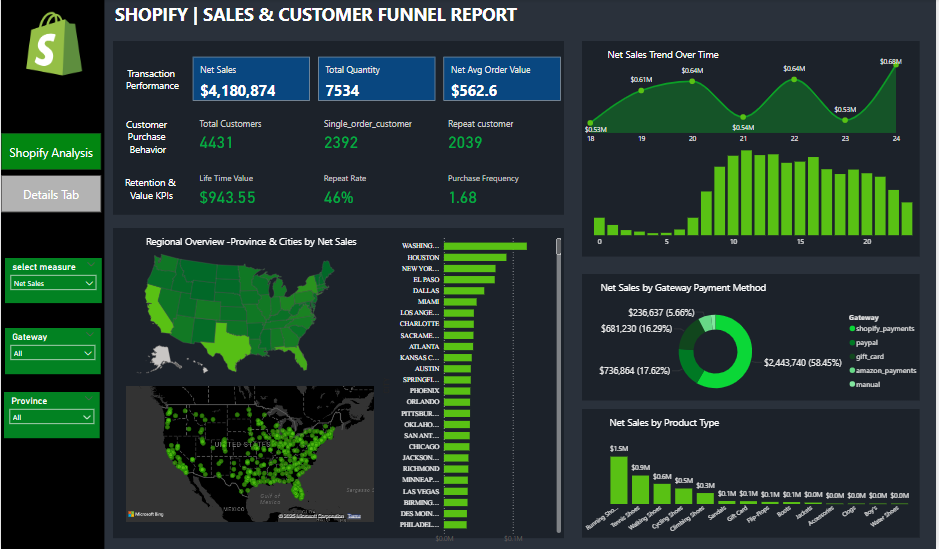

The page's visual inventory and layout, read from the dashboard file:
{"tool":"powerbi","page":{"name":"Shopify Analysis","canvas":[1700,1000],"ordinal":0},"visuals":[{"type":"shape","box":[0,0,188,1000],"z":0},{"type":"textbox","box":[202,0,806,56],"z":1000},{"type":"shape","box":[204,76,820,316],"z":2000},{"type":"shape","box":[204,416,820,564],"z":3000},{"type":"shapeMap","fields":{"Value":["Table.Net Sales"],"Category":["shopify_sales.Billing Address Province"]},"box":[184,448,486,250],"z":4000},{"type":"slicer","fields":{"Values":["select measure.select measure"]},"box":[8,470,176,82],"z":5000},{"type":"cardVisual","fields":{"Data":["Table.Net Sales","Table.Total Quantity","shopify_sales.Net Avg Order Value"]},"box":[344,100,680,90],"z":6000},{"type":"cardVisual","fields":{"Data":["Table.Total Customers","shopify_sales.Single_order_customer","Table.Repeat customer"]},"box":[344,198,680,90],"z":7000},{"type":"cardVisual","fields":{"Data":["shopify_sales.Life Time Value","shopify_sales.Repeat Rate","shopify_sales.Purchase Frequency"]},"box":[344,298,680,90],"z":8000},{"type":"card","fields":{"Values":["shopify_sales.Transaction Perf"]},"box":[190,100,168,90],"z":9000},{"type":"card","fields":{"Values":["shopify_sales.Customer purchase"]},"box":[192,194,148,104],"z":10000},{"type":"card","fields":{"Values":["shopify_sales.Retention & Value"]},"box":[196,292,154,104],"z":11000},{"type":"map","fields":{"Category":["shopify_sales.location"]},"box":[222,698,462,258],"z":12000},{"type":"clusteredBarChart","fields":{"Y":["Table.Net Sales"],"Category":["shopify_sales.CITY"]},"box":[688,422,336,578],"z":13000},{"type":"card","fields":{"Values":["shopify_sales.Map Title"]},"box":[222,416,466,52],"z":14000},{"type":"shape","box":[1056,76,614,392],"z":15000},{"type":"areaChart","fields":{"Y":["Table.Net Sales"],"Category":["shopify_sales.Invoice Date.Variation.Date Hierarchy.Day"]},"box":[1056,94,586,178],"z":16000},{"type":"columnChart","fields":{"Y":["Table.Net Sales"],"Category":["shopify_sales.Hour"]},"box":[1072,246,614,214],"z":17000},{"type":"card","fields":{"Values":["shopify_sales.Trend Title"]},"box":[972,76,466,52],"z":18000},{"type":"shape","box":[1056,500,614,230],"z":19000},{"type":"donutChart","fields":{"Y":["Table.Net Sales"],"Category":["shopify_sales.Gateway"]},"box":[1050,550,628,180],"z":20000},{"type":"card","fields":{"Values":["shopify_sales.Gateway Title"]},"box":[1008,500,466,52],"z":21000},{"type":"shape","box":[1056,746,614,234],"z":22000},{"type":"columnChart","fields":{"Y":["Table.Net Sales"],"Category":["shopify_sales.Product Type"]},"box":[1056,798,614,182],"z":23000},{"type":"card","fields":{"Values":["shopify_sales.Product Title"]},"box":[972,746,466,52],"z":24000},{"type":"image","box":[32.9,18.3,128,126.1],"z":25000},{"type":"slicer","fields":{"Values":["shopify_sales.Gateway"]},"box":[8,598,174,84],"z":26000},{"type":"slicer","fields":{"Values":["shopify_sales.Billing Address Province"]},"box":[6,714,174,84],"z":27000},{"type":"pageNavigator","box":[0,244,182,144],"z":28000}]}

Visuals, with their boxes on the page's 1700x1000 design canvas (x1, y1, x2, y2). These are canvas units, not pixel positions in the 939x549 screenshot, which may show the page scaled, cropped or inside an application window:
shape: 0:0:188:1000
textbox: 202:0:1008:56
shape: 204:76:1024:392
shape: 204:416:1024:980
shapeMap - Table.Net Sales x shopify_sales.Billing Address Province: 184:448:670:698
slicer - select measure.select measure: 8:470:184:552
cardVisual - Table.Net Sales x Table.Total Quantity: 344:100:1024:190
cardVisual - Table.Total Customers x shopify_sales.Single_order_customer: 344:198:1024:288
cardVisual - shopify_sales.Life Time Value x shopify_sales.Repeat Rate: 344:298:1024:388
card - shopify_sales.Transaction Perf: 190:100:358:190
card - shopify_sales.Customer purchase: 192:194:340:298
card - shopify_sales.Retention & Value: 196:292:350:396
map - shopify_sales.location: 222:698:684:956
clusteredBarChart - Table.Net Sales x shopify_sales.CITY: 688:422:1024:1000
card - shopify_sales.Map Title: 222:416:688:468
shape: 1056:76:1670:468
areaChart - Table.Net Sales x shopify_sales.Invoice Date.Variation.Date Hierarchy.Day: 1056:94:1642:272
columnChart - Table.Net Sales x shopify_sales.Hour: 1072:246:1686:460
card - shopify_sales.Trend Title: 972:76:1438:128
shape: 1056:500:1670:730
donutChart - Table.Net Sales x shopify_sales.Gateway: 1050:550:1678:730
card - shopify_sales.Gateway Title: 1008:500:1474:552
shape: 1056:746:1670:980
columnChart - Table.Net Sales x shopify_sales.Product Type: 1056:798:1670:980
card - shopify_sales.Product Title: 972:746:1438:798
image: 33:18:161:144
slicer - shopify_sales.Gateway: 8:598:182:682
slicer - shopify_sales.Billing Address Province: 6:714:180:798
pageNavigator: 0:244:182:388
